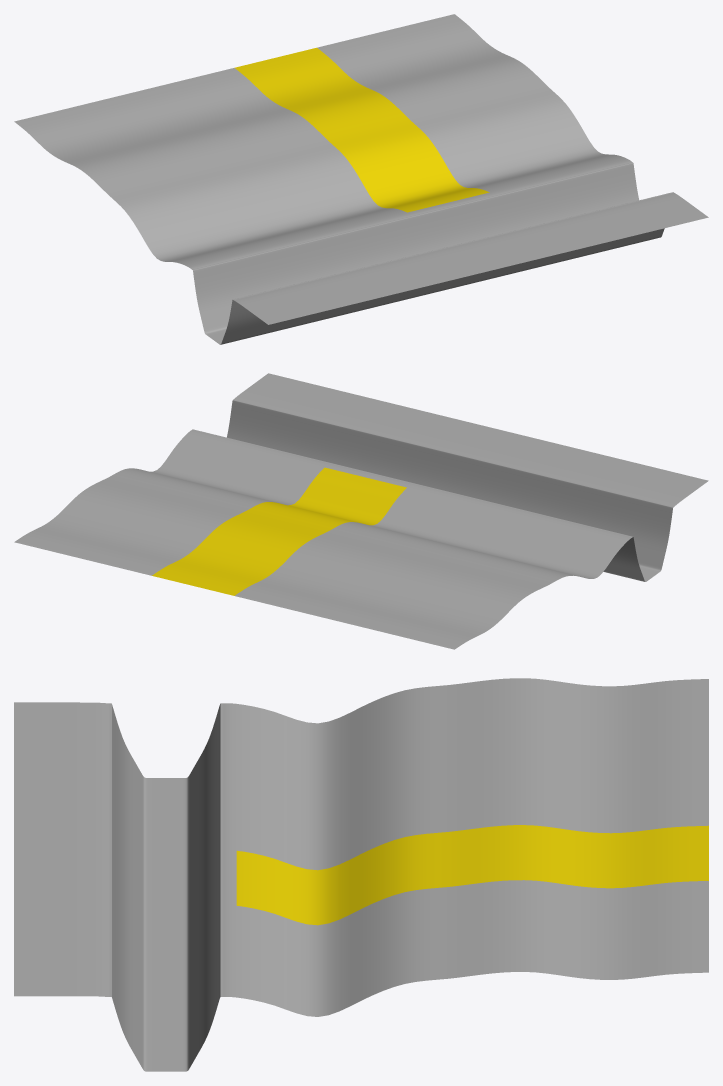
Rendered from SM_PlaneP1.fbx.
3 views of the same model, one above another, from view 1: azimuth 30°, elevation 25°; view 2: azimuth 150°, elevation 25°; view 3: azimuth 270°, elevation 25° (orthographic). The views are drawn at different scales.
Parts seen in each view (by area): view 1: SM_PlaneP1; view 2: SM_PlaneP1; view 3: SM_PlaneP1.
Part boxes in pixels (bbox=[...]): SM_PlaneP1: bbox=[14, 14, 708, 344]; SM_PlaneP1: bbox=[14, 373, 708, 649]; SM_PlaneP1: bbox=[14, 678, 708, 1071].
Size of the model in its own units: 10000 by 1585 by 10000.
